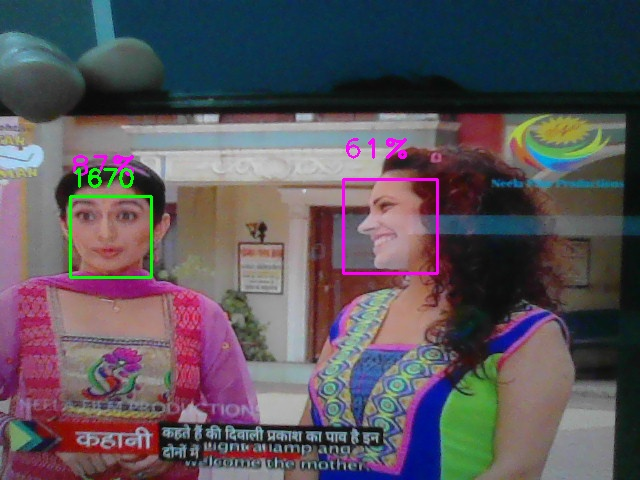fake: (70, 196, 152, 278)
